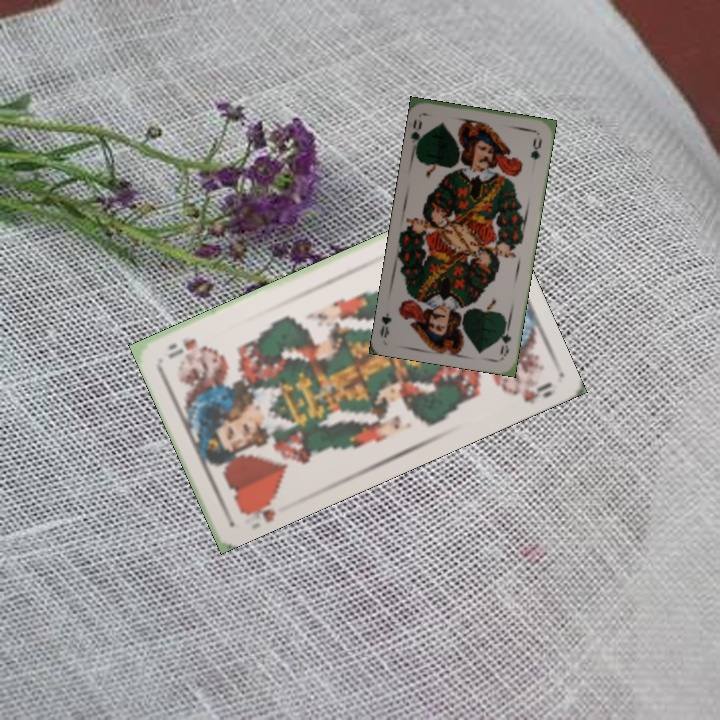GO: (407, 114, 428, 153), (496, 318, 514, 359)
HO: (236, 492, 279, 525)
